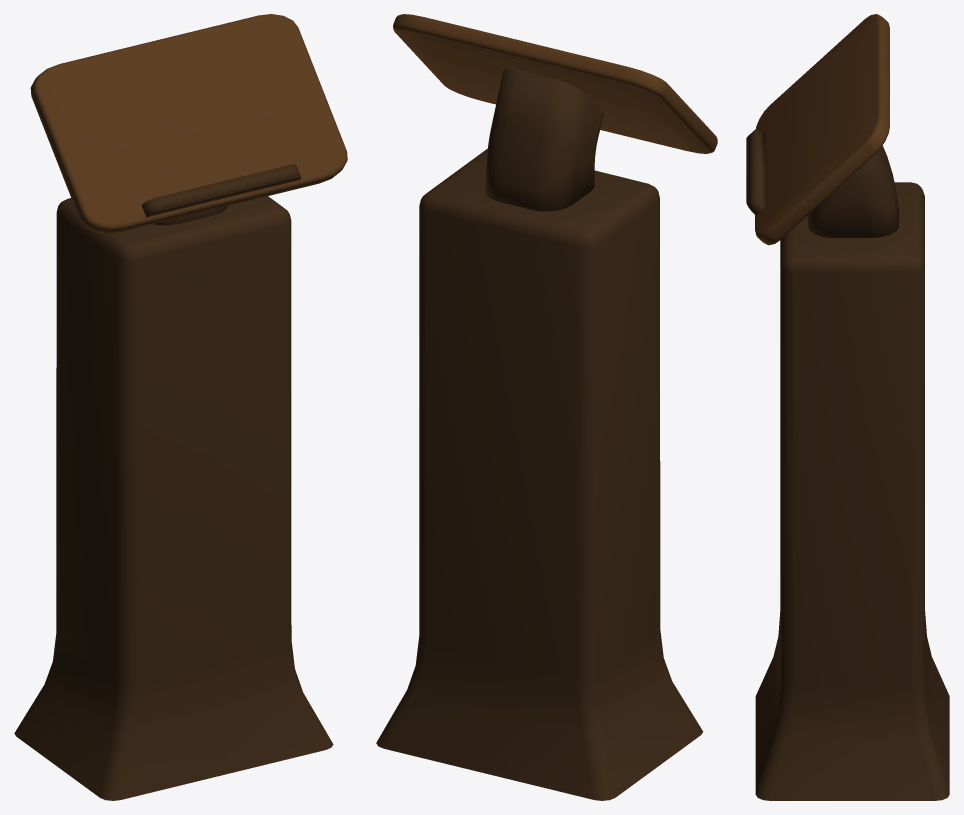
The model's file is Podium.glb.
3 renders of one model, left to right at view 1: azimuth 30°, elevation 25°; view 2: azimuth 150°, elevation 25°; view 3: azimuth 270°, elevation 25°, orthographic. The views are drawn at different scales.
Parts seen in each view (by area): view 1: podium; view 2: podium; view 3: podium.
Boxes of the visible parts, box(x1,y1,x2,y2) form: podium: box(14, 14, 347, 800); podium: box(376, 14, 717, 800); podium: box(746, 14, 949, 800).
Bounding box in the file's own units: 3.44 × 8.58 × 2.34.
